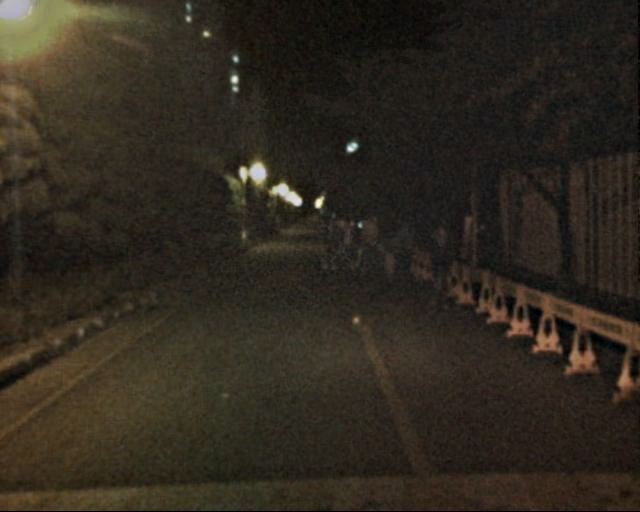person: (422, 229, 456, 312), (393, 216, 419, 279), (356, 214, 381, 274), (317, 215, 339, 269), (336, 218, 357, 269), (378, 228, 399, 278)
